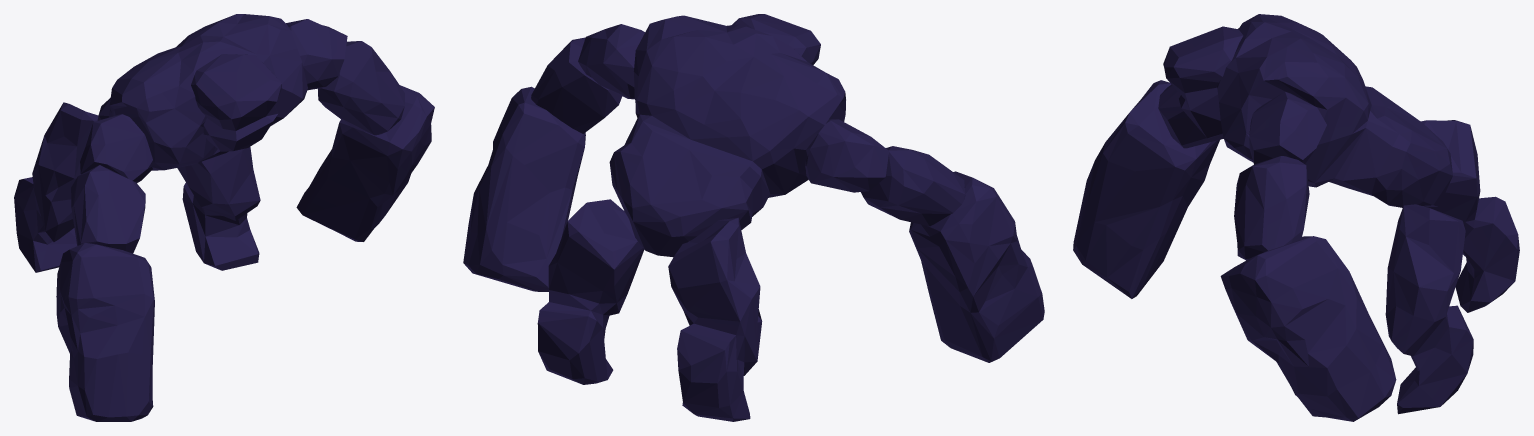
File: NewMeshesGolem.fbx
3 renders of one model, left to right at view 1: azimuth 30°, elevation 25°; view 2: azimuth 150°, elevation 25°; view 3: azimuth 270°, elevation 25°, orthographic. The views are drawn at different scales.
Parts seen in each view (by area): view 1: HandR, Body, HandL, LegR, LegL, Head, ArmL, ArmR, ShoulderR, ShoulderL; view 2: Body, HandL, HandR, LegR, LegL, ArmR, ShoulderR, ArmL, ShoulderL, Head; view 3: Body, HandL, HandR, LegL, LegR, ArmL, Head, ShoulderL, ArmR.
Boxes of the visible parts, <box> form: HandR: <box>56,243,154,421</box>; Body: <box>97,14,307,170</box>; HandL: <box>296,85,434,241</box>; LegR: <box>14,102,98,272</box>; LegL: <box>177,147,260,270</box>; Head: <box>191,54,281,151</box>; ArmL: <box>318,41,404,135</box>; ArmR: <box>71,165,145,253</box>; ShoulderR: <box>80,114,152,182</box>; ShoulderL: <box>286,19,347,90</box>; Body: <box>609,15,845,257</box>; HandL: <box>463,86,585,291</box>; HandR: <box>909,171,1044,362</box>; LegR: <box>668,217,762,421</box>; LegL: <box>537,199,644,384</box>; ArmR: <box>861,146,965,226</box>; ShoulderR: <box>805,119,889,192</box>; ArmL: <box>531,37,622,133</box>; ShoulderL: <box>578,24,644,99</box>; Head: <box>731,14,820,64</box>; Body: <box>1217,14,1452,207</box>; HandL: <box>1220,236,1396,421</box>; HandR: <box>1073,80,1219,298</box>; LegL: <box>1385,204,1473,414</box>; LegR: <box>1421,120,1519,312</box>; ArmL: <box>1234,156,1309,260</box>; Head: <box>1163,26,1243,138</box>; ShoulderL: <box>1249,91,1326,164</box>; ArmR: <box>1158,84,1223,148</box>.
Size of the model in its own units: 241 by 354 by 283.
